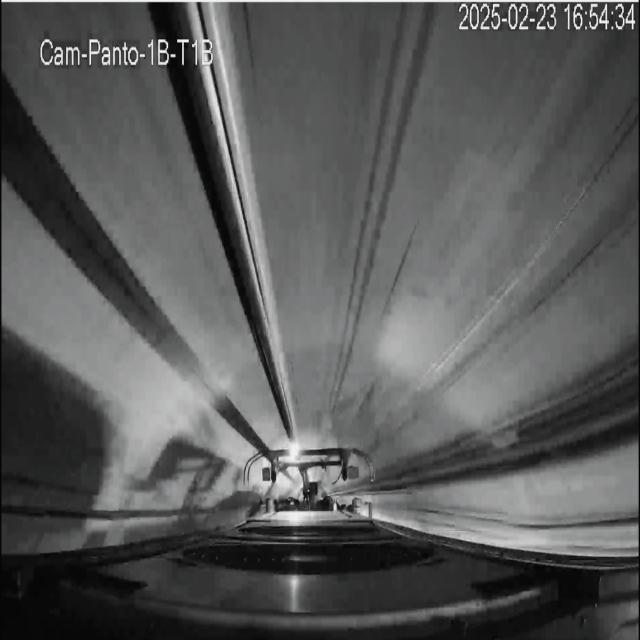Camera Stamp: (37, 31, 220, 69)
Date Stamp: (458, 3, 635, 33)
Sparks: (283, 439, 306, 469)
